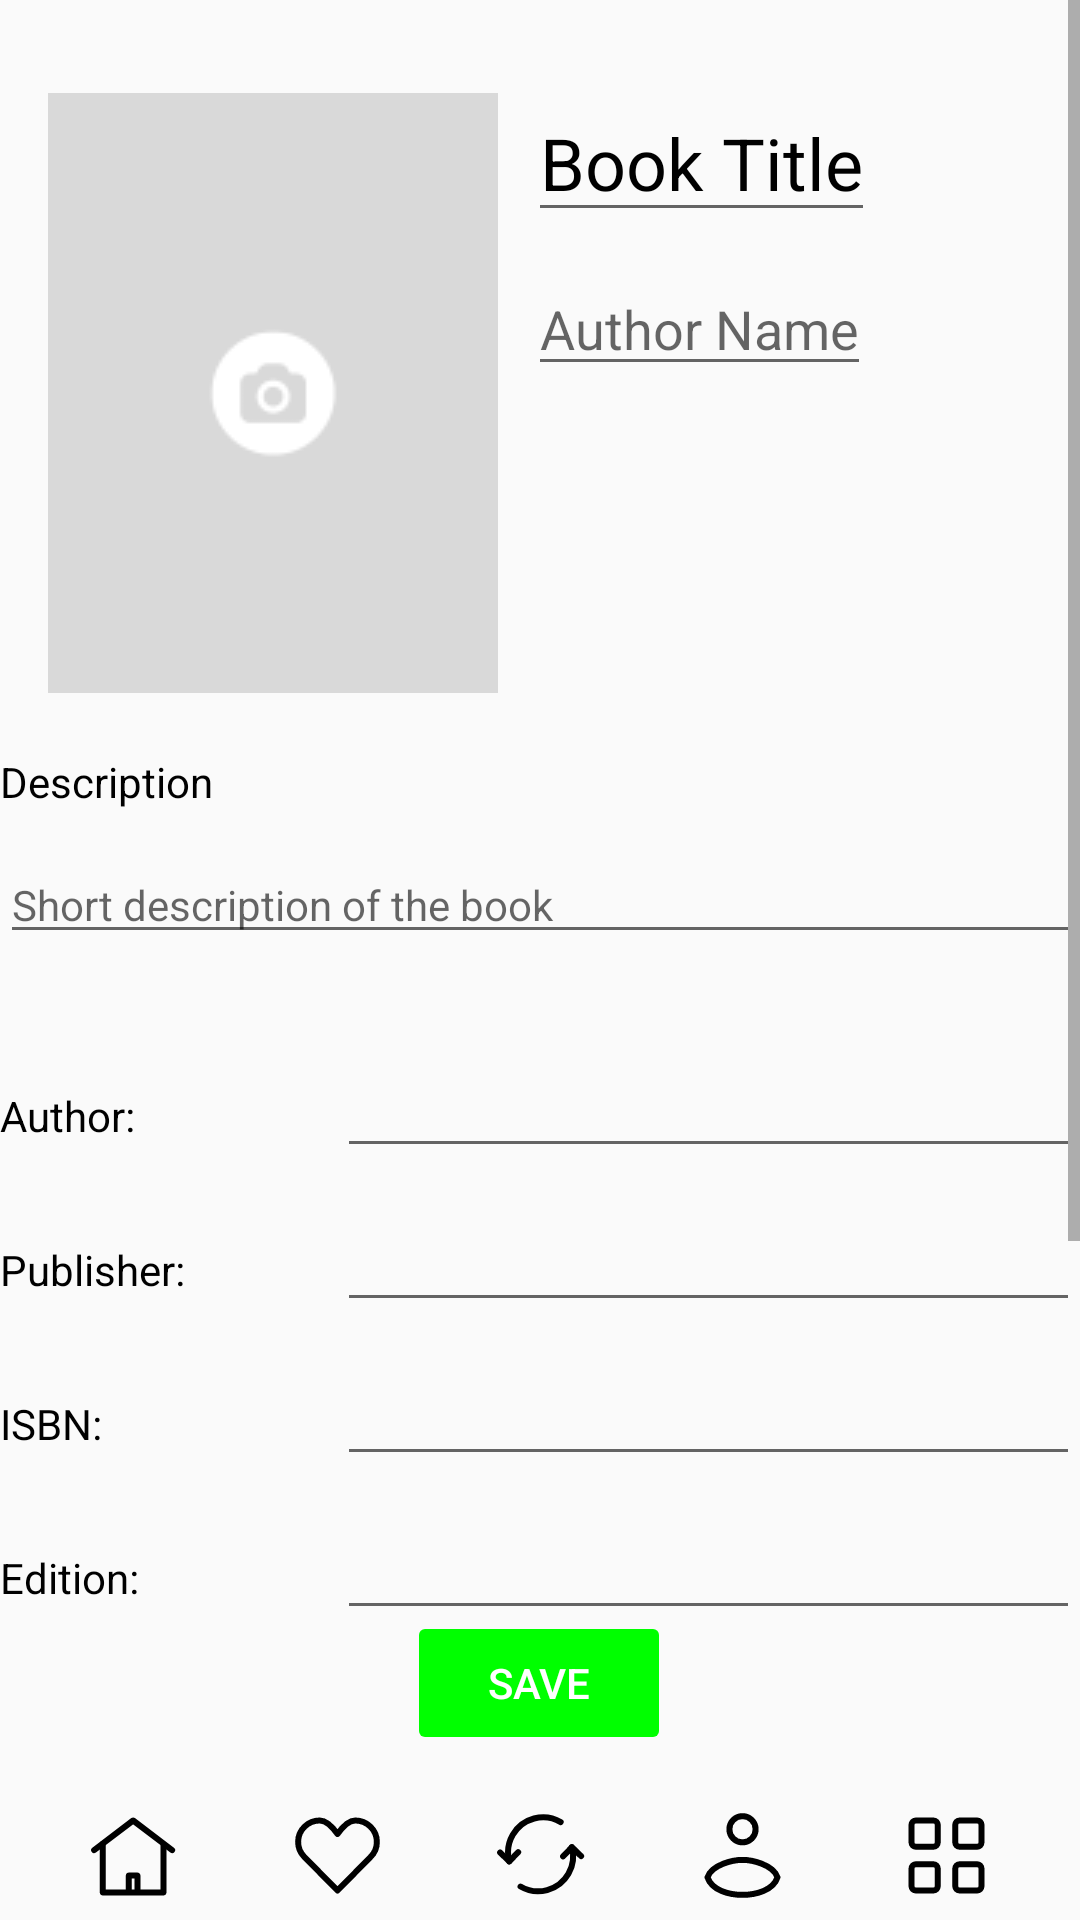

Named icons in this screenshot (1080px x 1920px) and their bounding boxes, box=[x1, y1, x2, y2]:
favorite: box=[295, 1817, 380, 1894]
home: box=[91, 1817, 176, 1896]
menu: box=[908, 1817, 985, 1894]
swap: box=[497, 1814, 585, 1895]
user: box=[704, 1813, 781, 1898]
